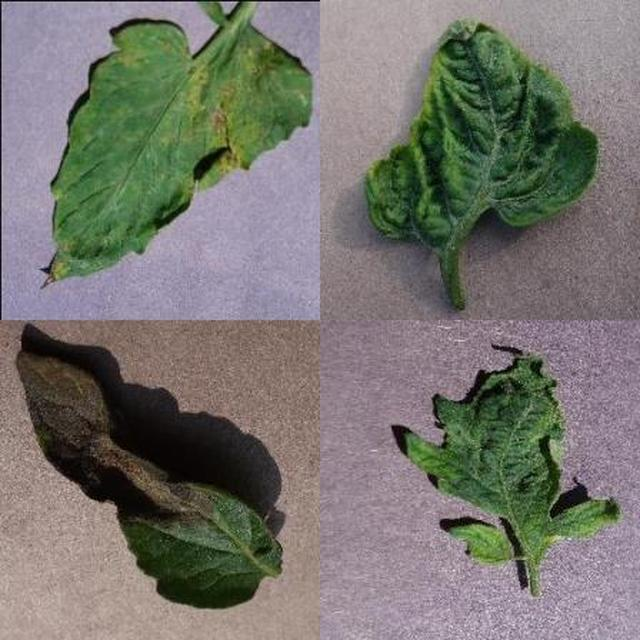Septoria Leaf: (214, 186, 640, 640)
